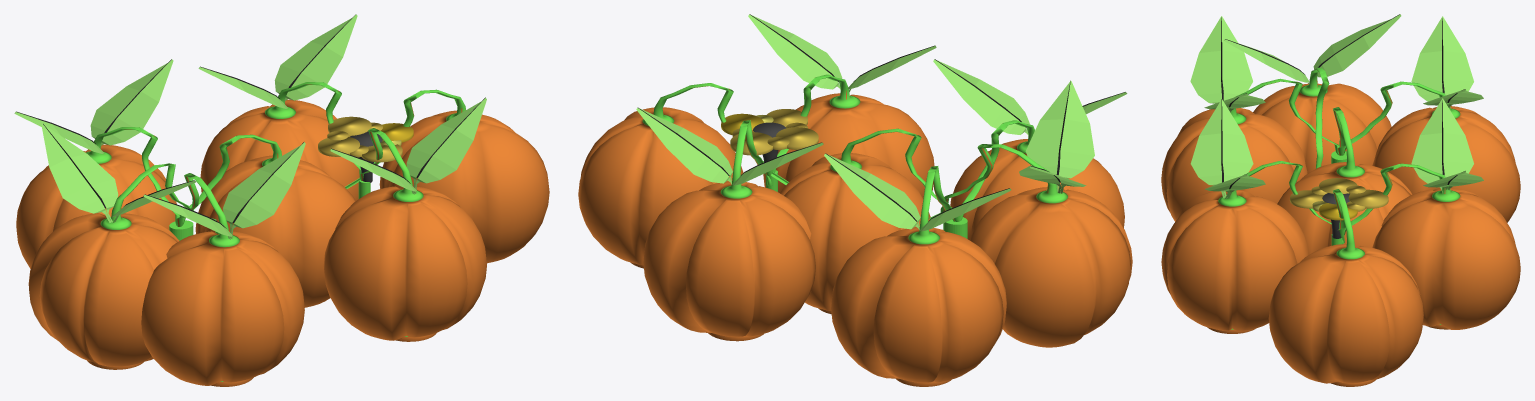
The model's file is pumpkin.fbx.
3 views of the same model, side by side, from view 1: azimuth 30°, elevation 25°; view 2: azimuth 150°, elevation 25°; view 3: azimuth 270°, elevation 25° (orthographic). The views are drawn at different scales.
Parts seen in each view (by area): view 1: Cylinder.001; view 2: Cylinder.001; view 3: Cylinder.001.
Part boxes in pixels (x1,y1,x2,y2): Cylinder.001: (14,14,549,386); Cylinder.001: (578,14,1132,386); Cylinder.001: (1161,14,1520,386).
Bounding box in the file's own units: 791 × 330 × 539.
